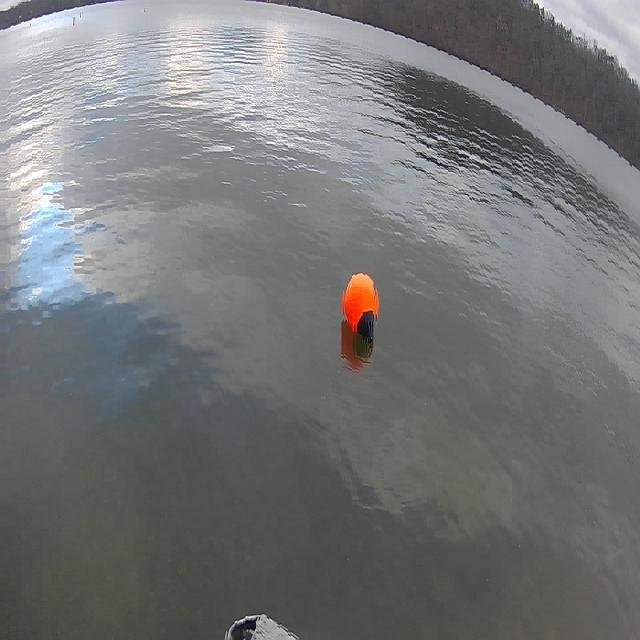Buoy: (337, 266, 383, 346)
